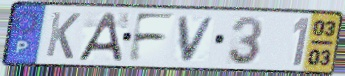1: (291, 16, 311, 68)
3: (228, 14, 266, 67)
A: (75, 11, 124, 63)
F: (125, 11, 178, 64)
K: (43, 10, 83, 61)
V: (177, 15, 219, 63)
